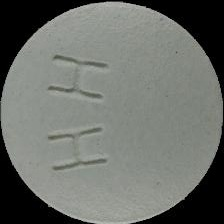43353-196: (0, 0, 224, 224)
